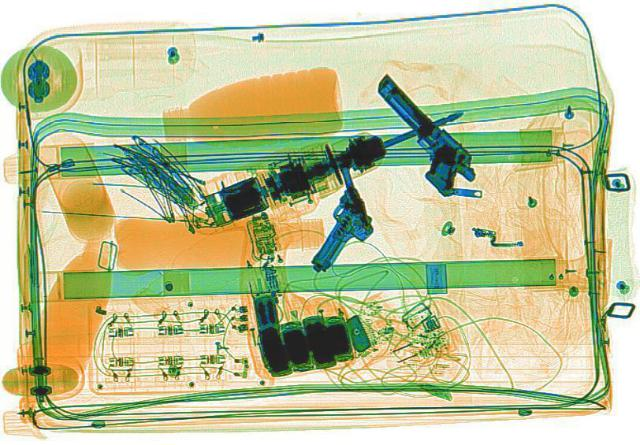Gun: (337, 70, 489, 191), (282, 162, 384, 269)
